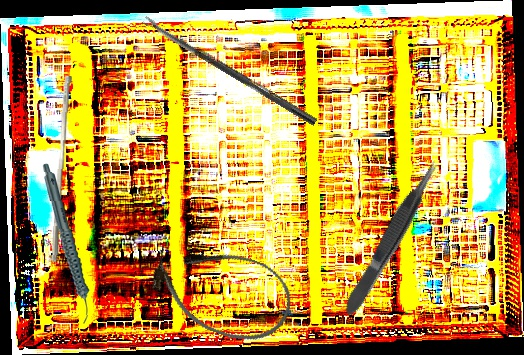Cannula: (141, 229, 302, 354)
Handpiece: (42, 161, 91, 326)
Pusher: (51, 75, 72, 263)
Surgical Spoon: (141, 15, 319, 126)
Tissue Forceps: (336, 156, 447, 319)
